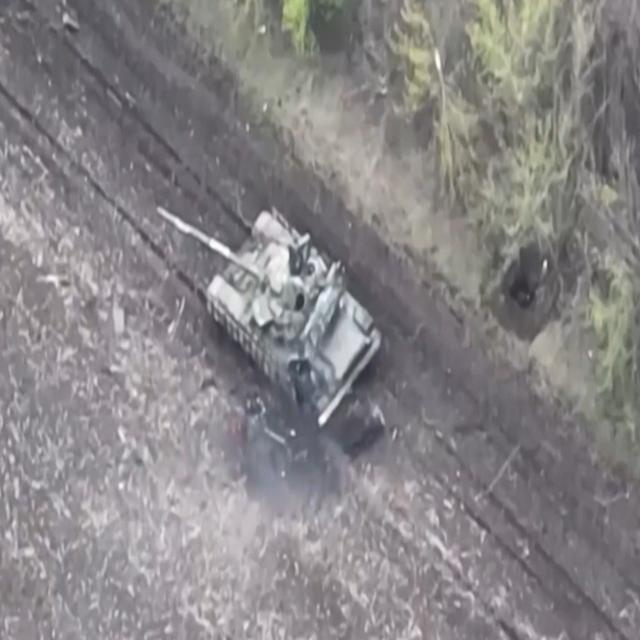MBT: (155, 202, 409, 434)
